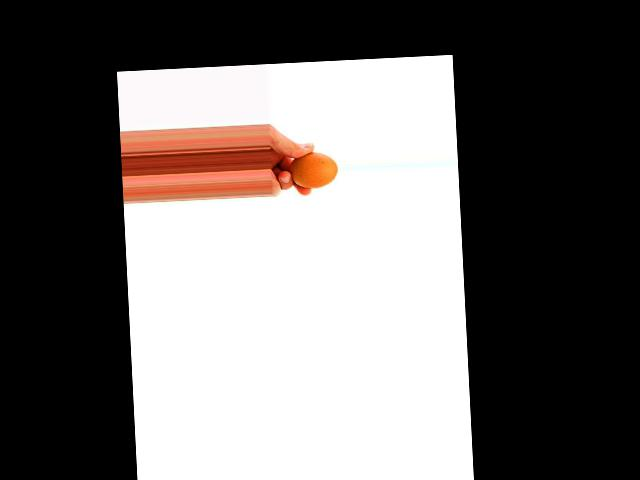egg: (289, 151, 338, 190)
